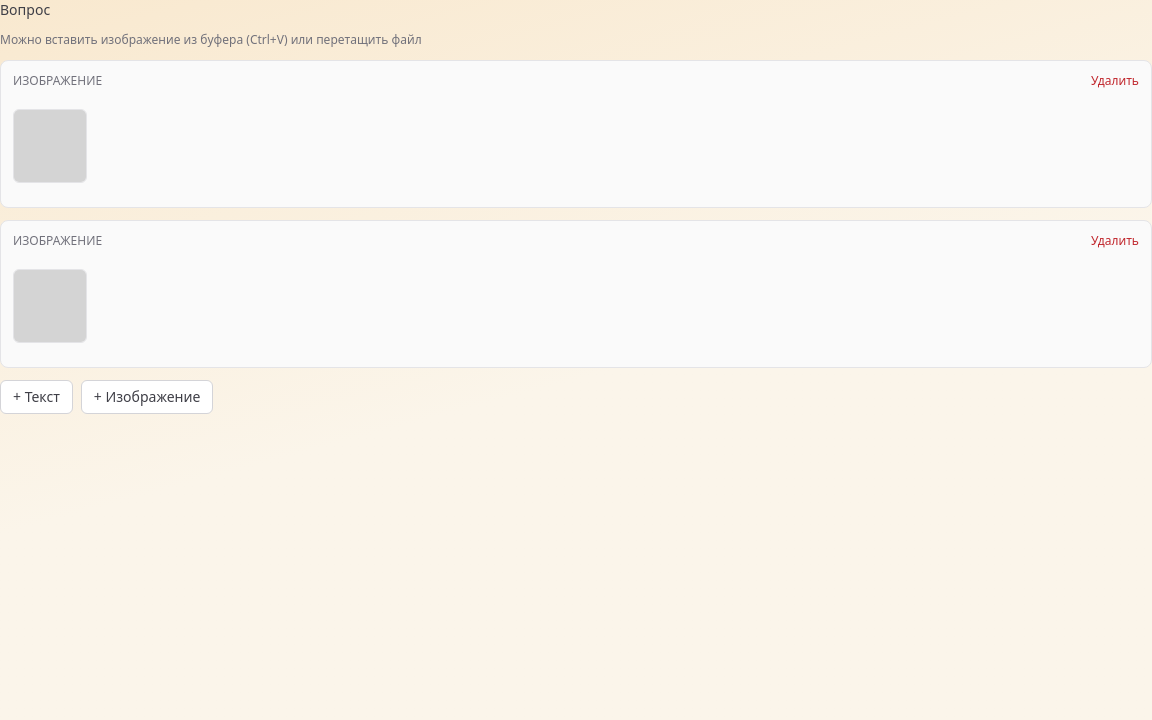
ContentBlocksEditor image intake › opens lightbox dialog when image preview is clicked
The width and height of the screenshot is (1152, 720).
Click the button named "Открыть изображение 2". click: (50, 306)
box: [13,257,1139,355]
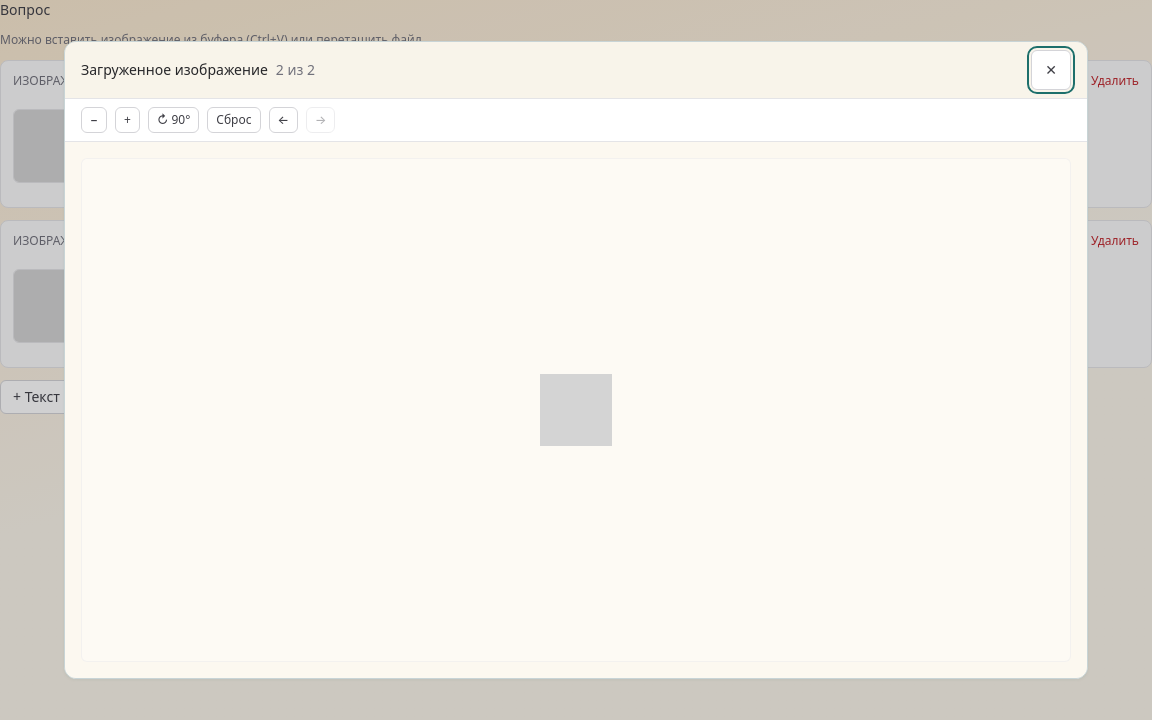
Now the dialog is shown
Now the text "2 из 2" is shown, box [276,60,315,79]
